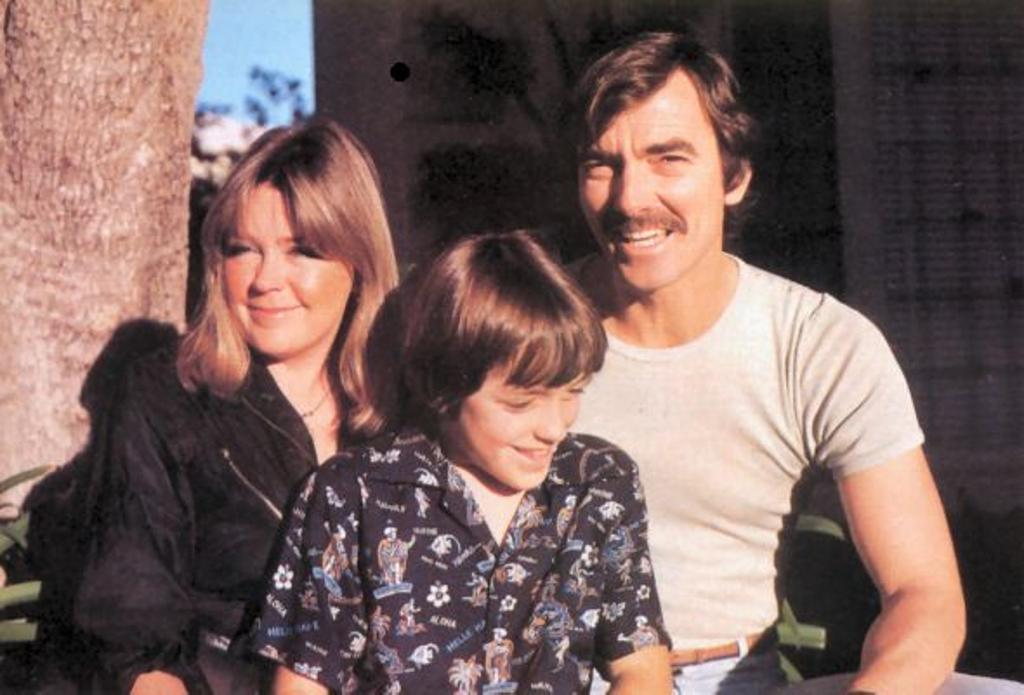face: (578, 90, 720, 292), (218, 186, 346, 356), (464, 346, 590, 492)
